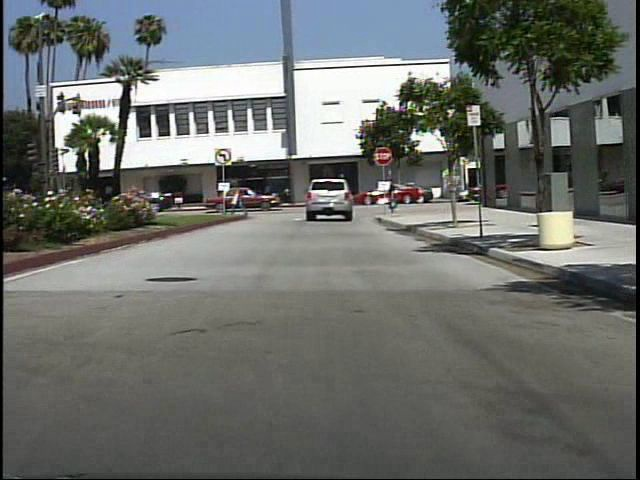person: (231, 179, 252, 220), (386, 174, 403, 215), (270, 181, 271, 207)
